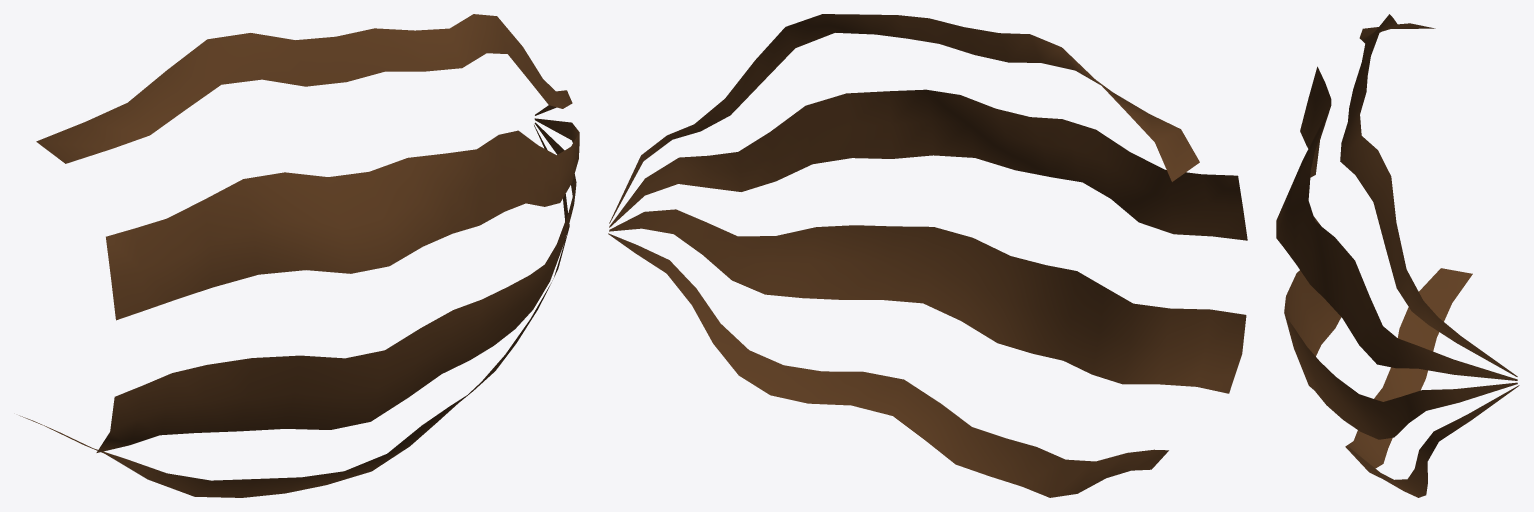
The model's file is thorax_stripe.obj.
3 renders of one model, left to right at view 1: azimuth 30°, elevation 25°; view 2: azimuth 150°, elevation 25°; view 3: azimuth 270°, elevation 25°, orthographic. The views are drawn at different scales.
Bounding box in the file's own units: 0.0846 × 0.07 × 0.0383.
